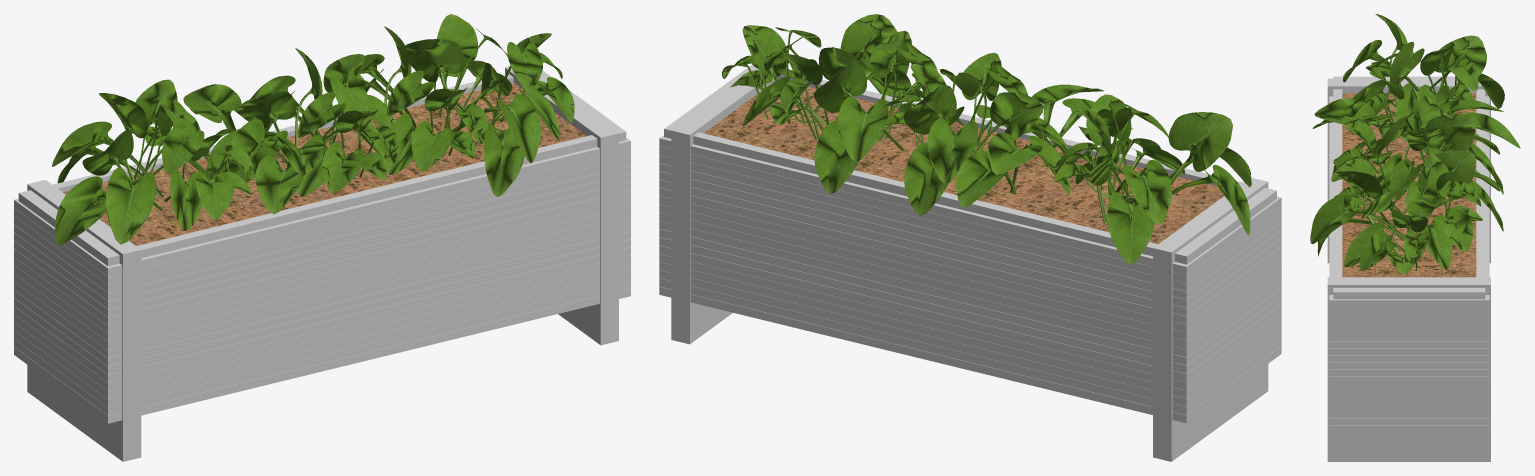
Rendered from plant_box.glb.
3 views of the same model, side by side, from view 1: azimuth 30°, elevation 25°; view 2: azimuth 150°, elevation 25°; view 3: azimuth 270°, elevation 25° (orthographic). The views are drawn at different scales.
Visible parts, largest first — view 1: Cube.001, Sapling_objArch310.000, Cube.004, Cube.002, Cube, Cube.003; view 2: Cube.001, Sapling_objArch310.000, Cube.004, Cube.002, Cube, Cube.003; view 3: Sapling_objArch310.000, Cube.001, Cube.003, Cube.004, Cube.002, Cube.
Boxes of the visible parts, left/top/right/bottom form: Cube.001: left=14, top=138, right=630, bottom=423; Sapling_objArch310.000: left=51, top=14, right=574, bottom=244; Cube.004: left=63, top=82, right=586, bottom=245; Cube.002: left=18, top=70, right=626, bottom=266; Cube: left=27, top=179, right=141, bottom=461; Cube.003: left=505, top=66, right=618, bottom=345; Cube.001: left=659, top=135, right=1281, bottom=423; Sapling_objArch310.000: left=722, top=14, right=1251, bottom=264; Cube.004: left=704, top=79, right=1223, bottom=243; Cube.002: left=664, top=64, right=1276, bottom=264; Cube: left=1153, top=177, right=1268, bottom=461; Cube.003: left=671, top=67, right=786, bottom=344; Sapling_objArch310.000: left=1310, top=14, right=1520, bottom=274; Cube.001: left=1329, top=96, right=1489, bottom=432; Cube.003: left=1327, top=277, right=1490, bottom=461; Cube.004: left=1342, top=93, right=1476, bottom=277; Cube.002: left=1333, top=76, right=1485, bottom=299; Cube: left=1327, top=78, right=1490, bottom=263.
Bounding box in the file's own units: 0.689 × 0.373 × 0.277.
3 materials, 2 textured.
